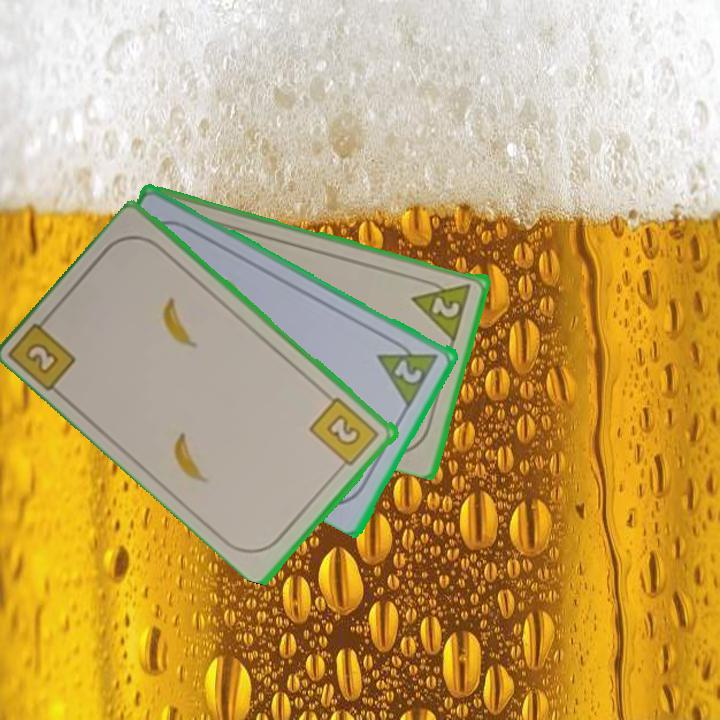2b: (306, 393, 383, 474), (9, 308, 80, 394)
2p: (391, 355, 426, 387), (428, 292, 463, 320)
